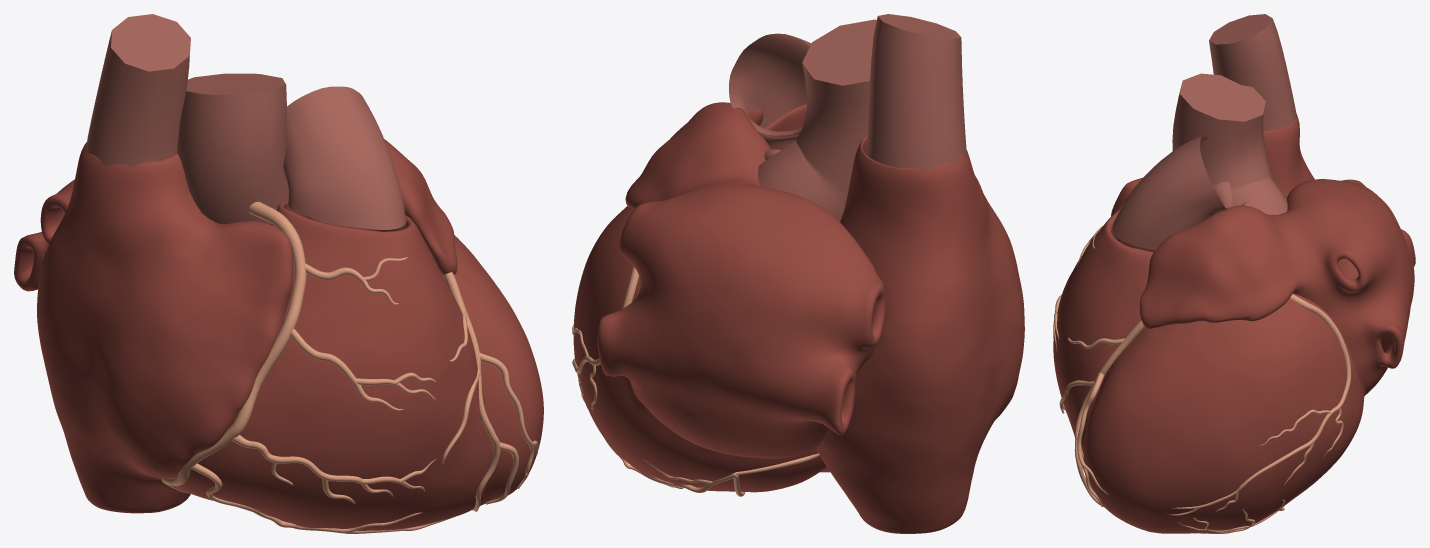
Rendered from heart.glb.
The picture shows the model from 3 angles, left to right: view 1: azimuth 30°, elevation 25°; view 2: azimuth 150°, elevation 25°; view 3: azimuth 270°, elevation 25°; orthographic projection. The views are drawn at different scales.
Visible parts, largest first — view 1: Right_atrium, Right_ventricle, Aorta_root, Pulmonary_trunk, SVC_root, Left_ventricle, Left_atrium, RCA_prox, RCA_mid, LAD_mid, LAD_dist, D1; view 2: Left_atrium, Right_atrium, Left_ventricle, SVC_root, Aorta_root, Pulmonary_trunk, RCA_dist, Right_ventricle; view 3: Left_ventricle, Left_atrium, Right_ventricle, Aorta_root, Pulmonary_trunk, SVC_root, Right_atrium, LAD_mid, LCX_dist, D1, LCX_prox, LCX_mid (+1 smaller).
Boxes of the visible parts, box(x1,y1,x2,y2) form: Right_atrium: box(37, 141, 293, 513); Right_ventricle: box(165, 201, 489, 530); Aorta_root: box(177, 73, 288, 224); Pulmonary_trunk: box(283, 86, 406, 229); SVC_root: box(87, 14, 190, 167); Left_ventricle: box(454, 235, 543, 505); Left_atrium: box(14, 139, 457, 291); RCA_prox: box(248, 201, 435, 410); RCA_mid: box(161, 385, 451, 533); LAD_mid: box(441, 301, 495, 463); LAD_dist: box(474, 434, 518, 511); D1: box(478, 352, 538, 488); Left_atrium: box(597, 102, 885, 458); Right_atrium: box(816, 135, 1024, 533); Left_ventricle: box(573, 206, 826, 492); SVC_root: box(866, 14, 966, 171); Aorta_root: box(758, 19, 876, 221); Pulmonary_trunk: box(729, 33, 811, 146); RCA_dist: box(605, 439, 819, 492); Right_ventricle: box(765, 104, 829, 472); Left_ventricle: box(1083, 293, 1364, 533); Left_atrium: box(1139, 179, 1415, 395); Right_ventricle: box(1053, 208, 1154, 453); Aorta_root: box(1172, 73, 1287, 214); Pulmonary_trunk: box(1112, 135, 1232, 250); SVC_root: box(1209, 14, 1296, 130); Right_atrium: box(1111, 113, 1314, 216); LAD_mid: box(1059, 338, 1129, 430); LCX_dist: box(1166, 408, 1343, 515); D1: box(1077, 372, 1108, 507); LCX_prox: box(1290, 294, 1351, 374); LCX_mid: box(1275, 374, 1351, 464).
Bounding box in the file's own units: 1.9 × 2.25 × 1.8.
